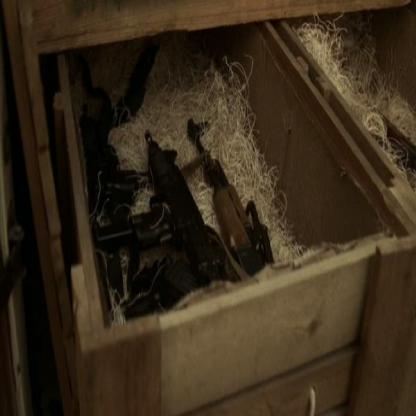Guns: (76, 93, 276, 325), (370, 100, 416, 181)
